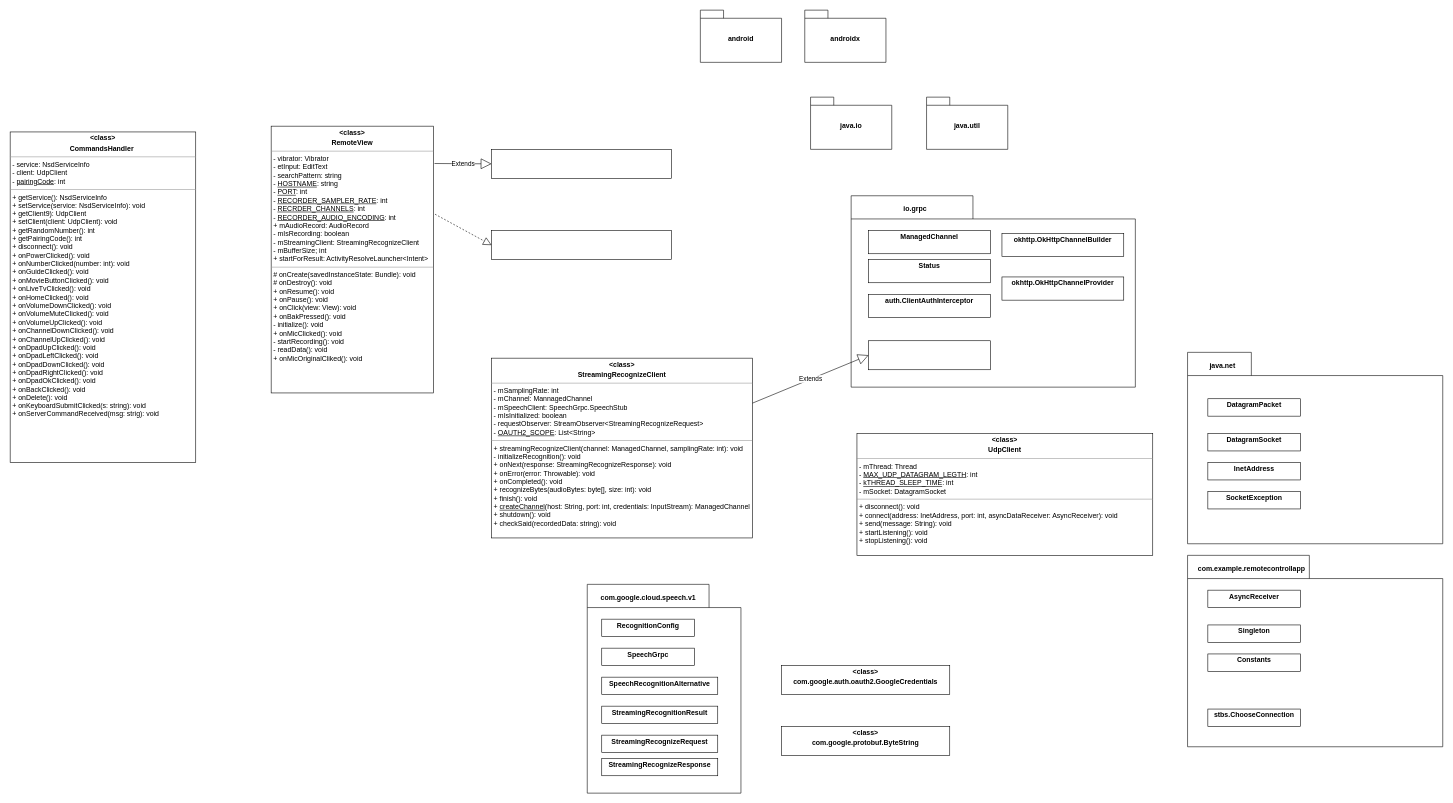
Image size: 1453x803. Some labels were removed from this diagram. Each missing label, with the centre of its shape:
"<class> androidx.appcompat.app.AppCompatActivity" belongs at [581,163].
"<class> stub.StreamObserver" belongs at [929,355].
"<interface> android.view.View.OnClickListener" belongs at [581,245].
